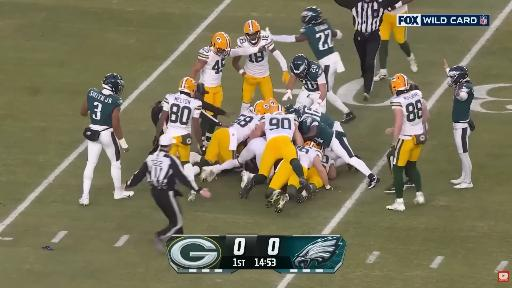Helmet: (211, 32, 231, 57), (103, 74, 123, 95), (448, 66, 469, 86), (289, 54, 308, 76), (244, 20, 260, 46), (390, 74, 409, 94), (301, 7, 321, 26), (179, 77, 196, 97), (252, 101, 269, 115), (286, 108, 302, 119), (304, 141, 321, 150), (269, 105, 285, 113), (264, 99, 278, 107), (285, 105, 296, 113)
Jersey: (163, 94, 202, 136), (237, 33, 274, 77), (391, 90, 424, 139), (87, 89, 122, 127), (300, 22, 334, 60), (229, 111, 262, 144), (198, 47, 225, 86), (292, 60, 323, 92), (299, 118, 333, 147), (261, 114, 297, 141), (452, 83, 474, 122), (300, 106, 334, 128), (298, 146, 322, 169), (385, 5, 407, 14)
Player: (273, 7, 355, 123), (79, 74, 133, 205), (240, 105, 310, 198), (199, 99, 275, 179), (299, 116, 379, 188), (387, 74, 429, 211), (190, 32, 266, 106), (232, 20, 289, 113), (156, 78, 202, 178), (445, 61, 474, 188), (374, 0, 417, 81), (201, 138, 266, 181), (283, 55, 326, 112), (266, 162, 309, 212), (286, 105, 344, 134), (194, 84, 228, 126)
